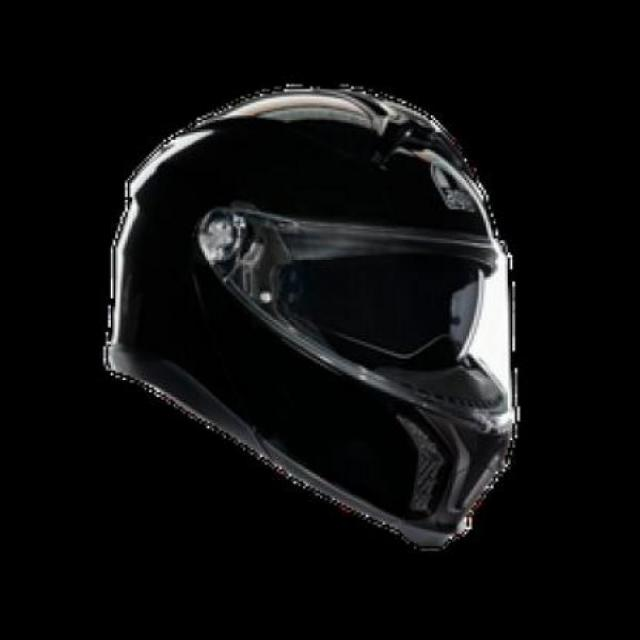Helmet: (109, 77, 518, 539)
